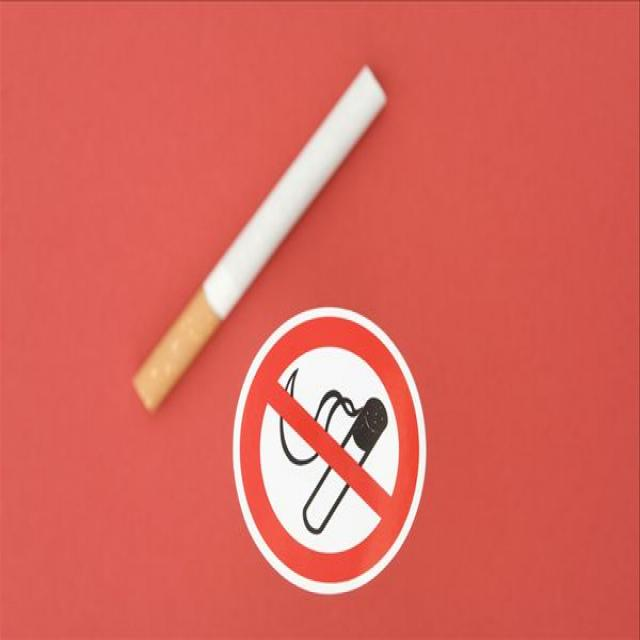smoking: (132, 61, 386, 409)
